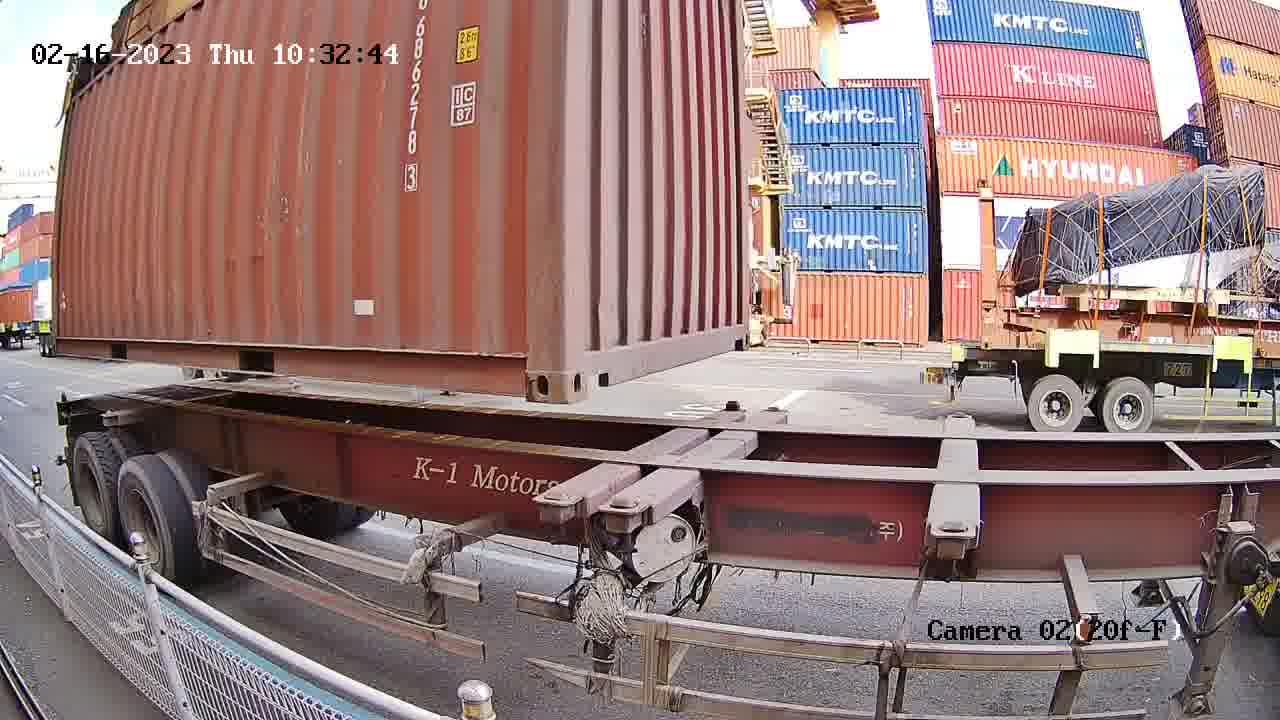Chassis: (527, 407, 748, 506), (597, 409, 789, 517)
Cone: (596, 495, 646, 537), (527, 490, 584, 526), (718, 397, 746, 418)
Hole_L: (566, 319, 623, 401)
Hole_R: (481, 322, 567, 403), (724, 312, 753, 352)
Tire: (117, 463, 170, 576), (71, 441, 111, 539)
